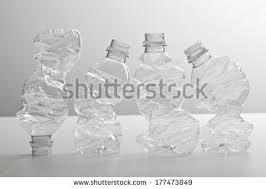Plastic bottle: (136, 27, 200, 158), (200, 25, 255, 162), (78, 35, 131, 157), (17, 21, 64, 157)
